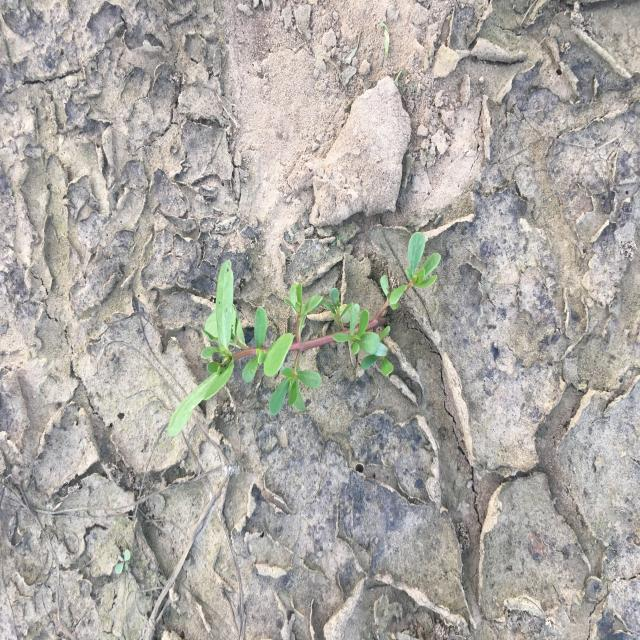Purslane: (165, 230, 442, 439)
